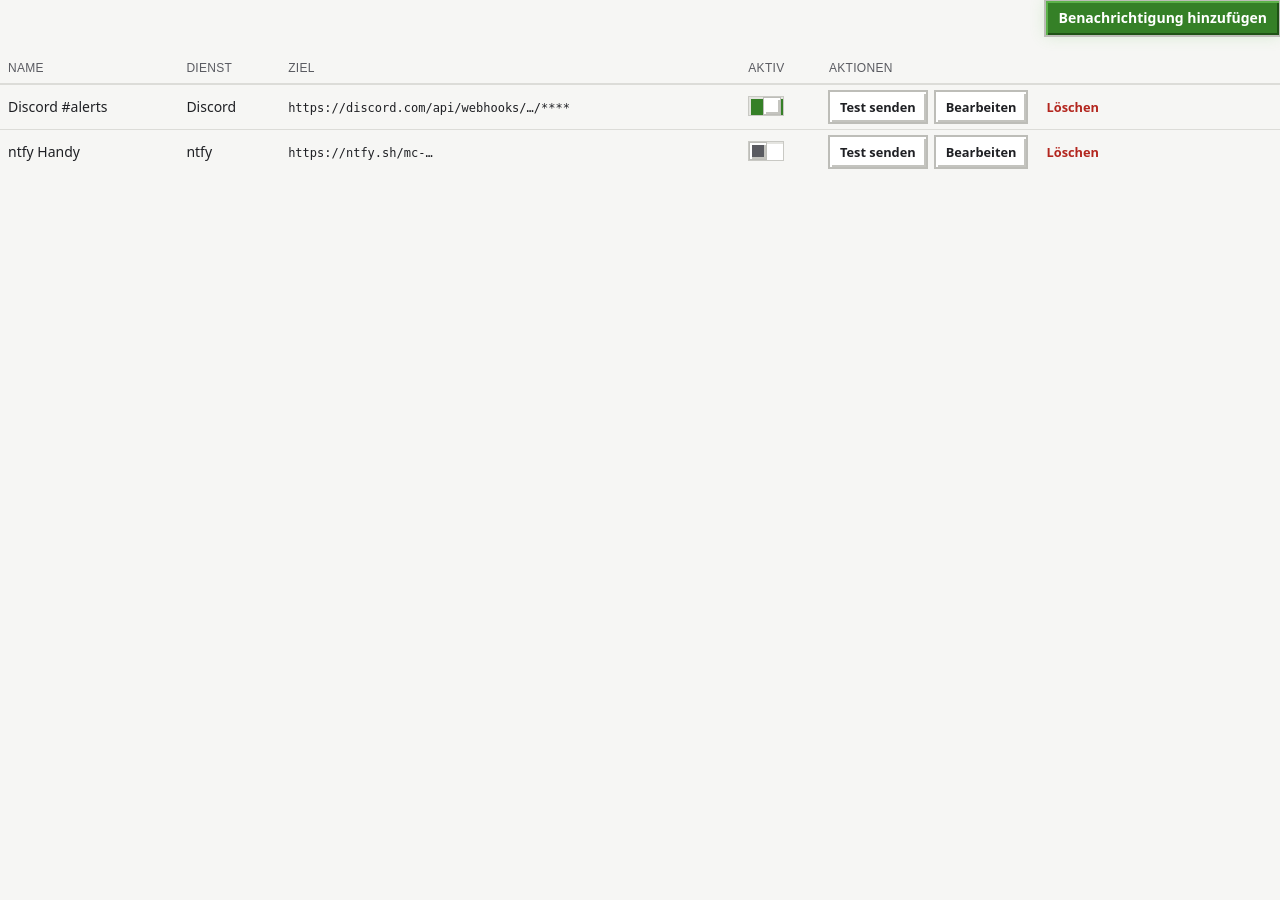
Test: NotifiersTab › reports a duplicate name on rename as validation error
The width and height of the screenshot is (1280, 900).
Click the button with aria-label "Discord #alerts bearbeiten" at coordinates (981, 107), box [935, 91, 1028, 123]
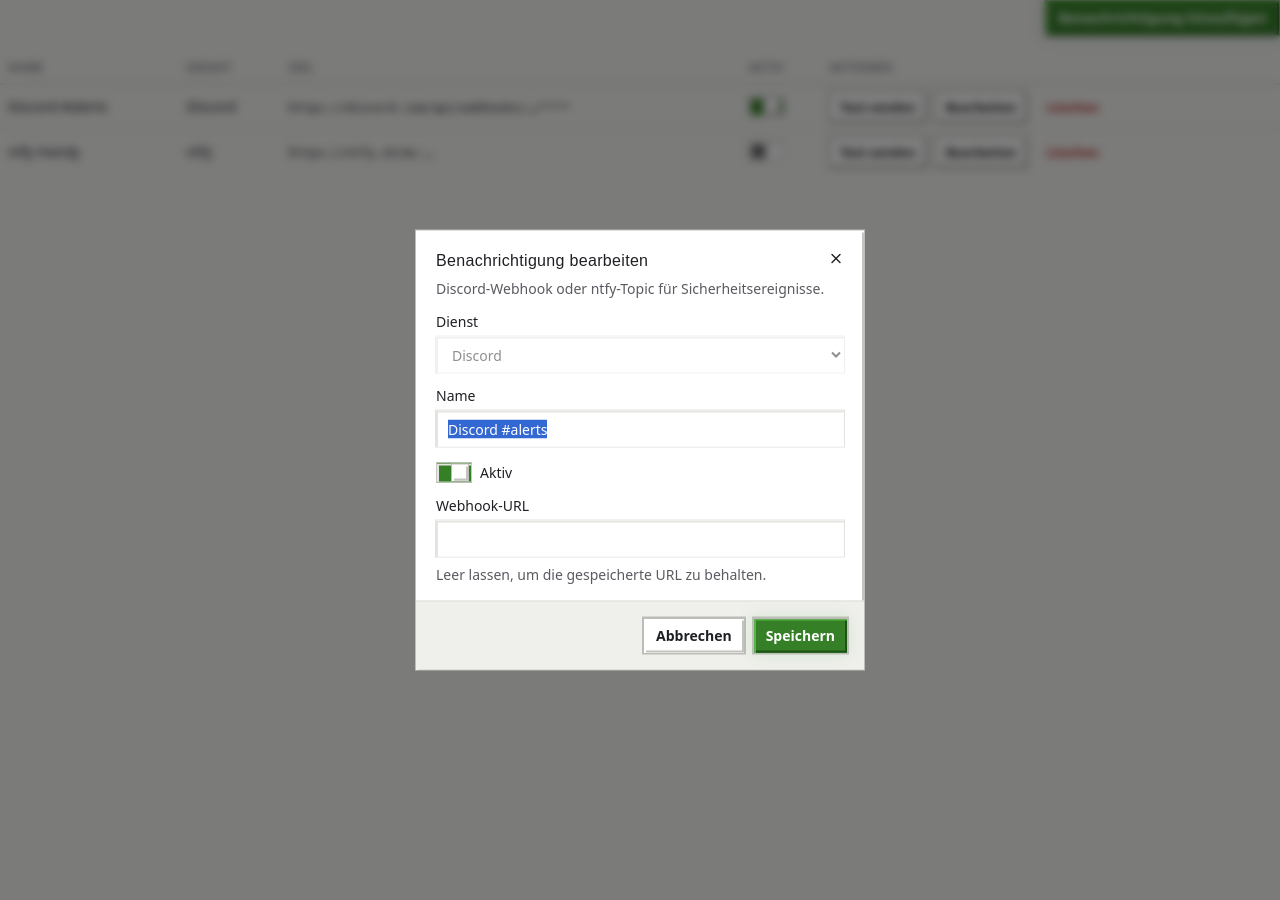
Replace the text in the field labelled "Name" with "ntfy Handy" at coordinates (640, 428), box [436, 410, 844, 446]
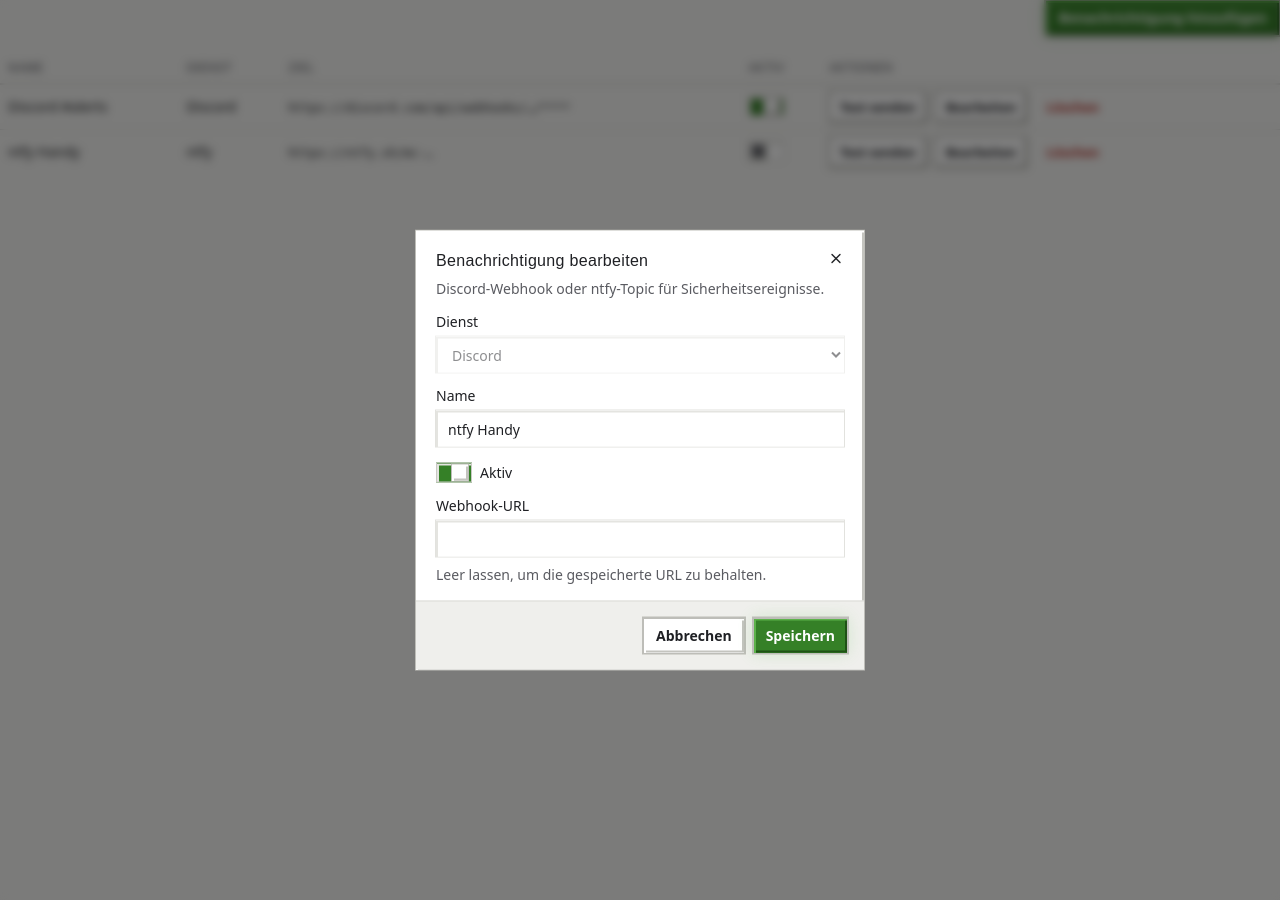
Click the button "Speichern" at coordinates (800, 636), box [753, 618, 848, 654]
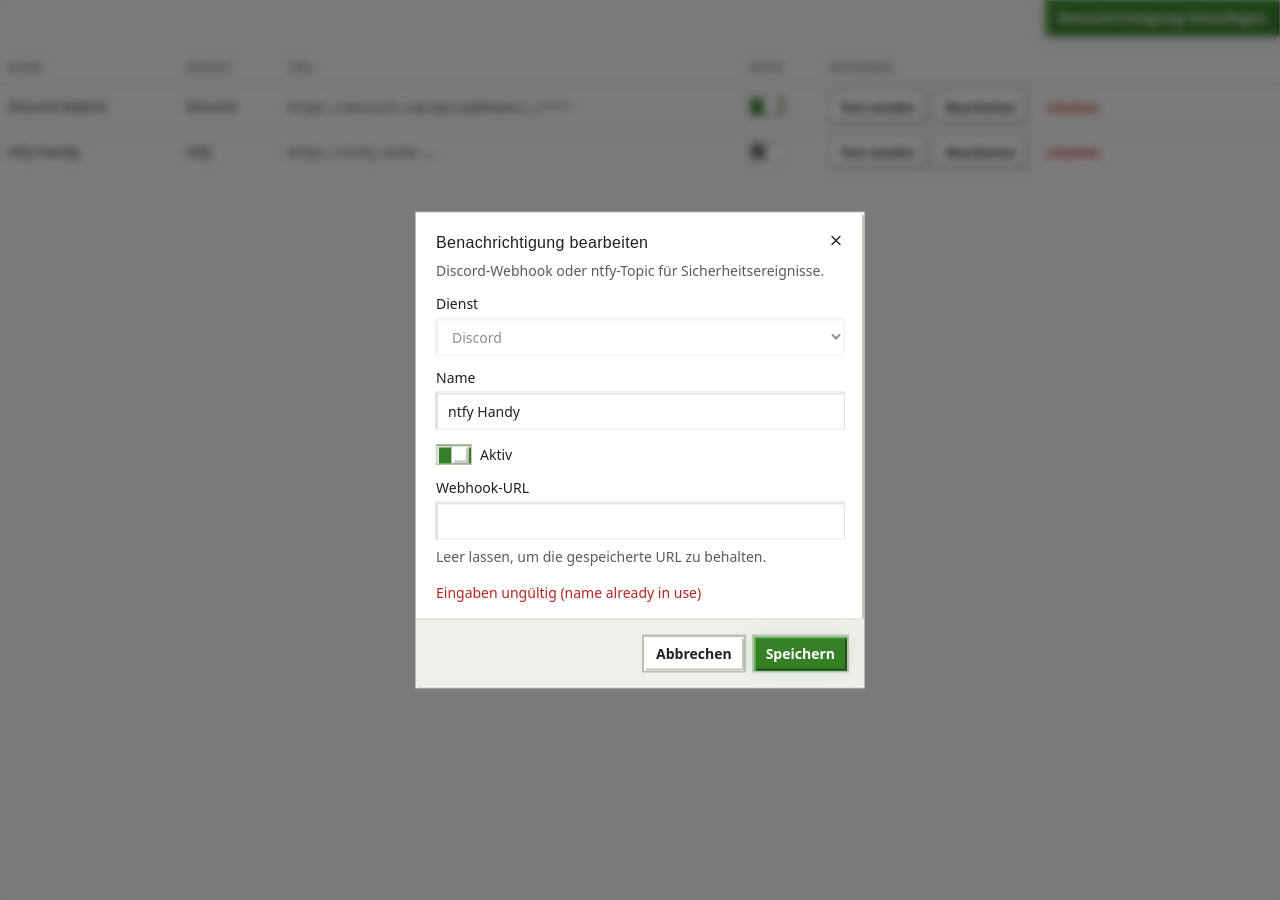
Expected: the message reads "Eingaben ungültig (name already in use)", [436, 582, 701, 602]
